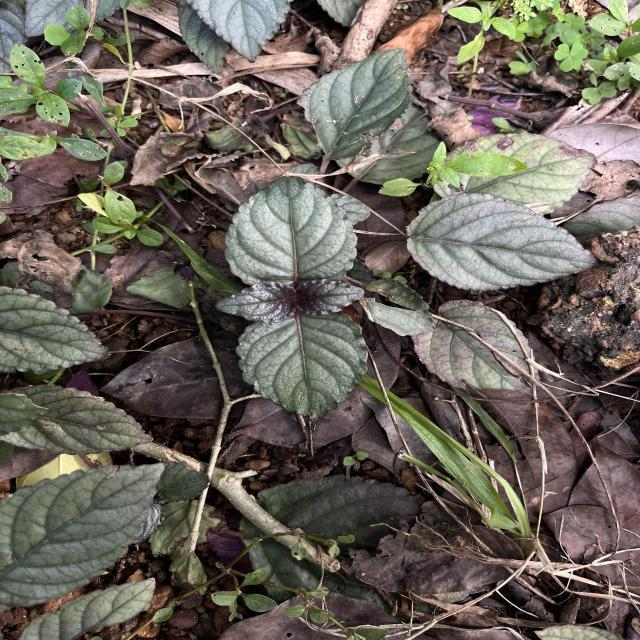Hemigraphis colorata: (0, 460, 156, 612), (403, 190, 600, 294), (221, 174, 360, 288), (233, 312, 372, 426), (294, 46, 418, 162), (2, 382, 156, 457), (0, 283, 114, 375), (212, 279, 297, 325), (296, 276, 366, 317)
